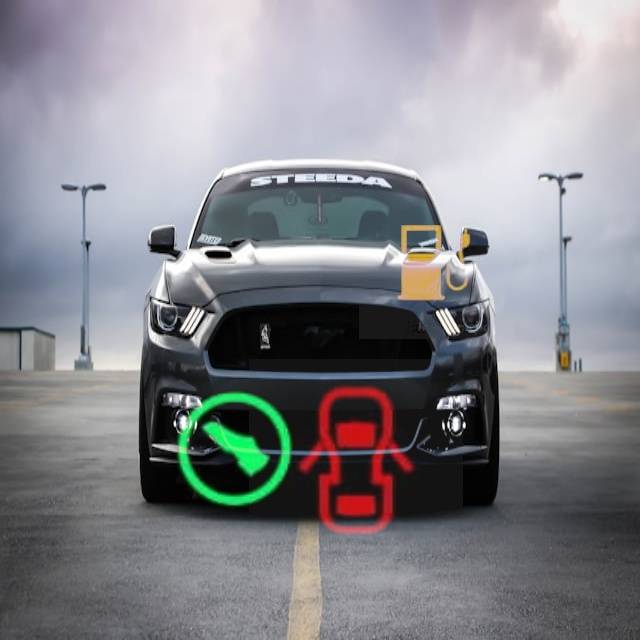symbol: (130, 341, 349, 560), (249, 359, 463, 573), (359, 189, 509, 339)
